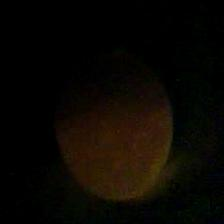fertile: (47, 49, 176, 203)
